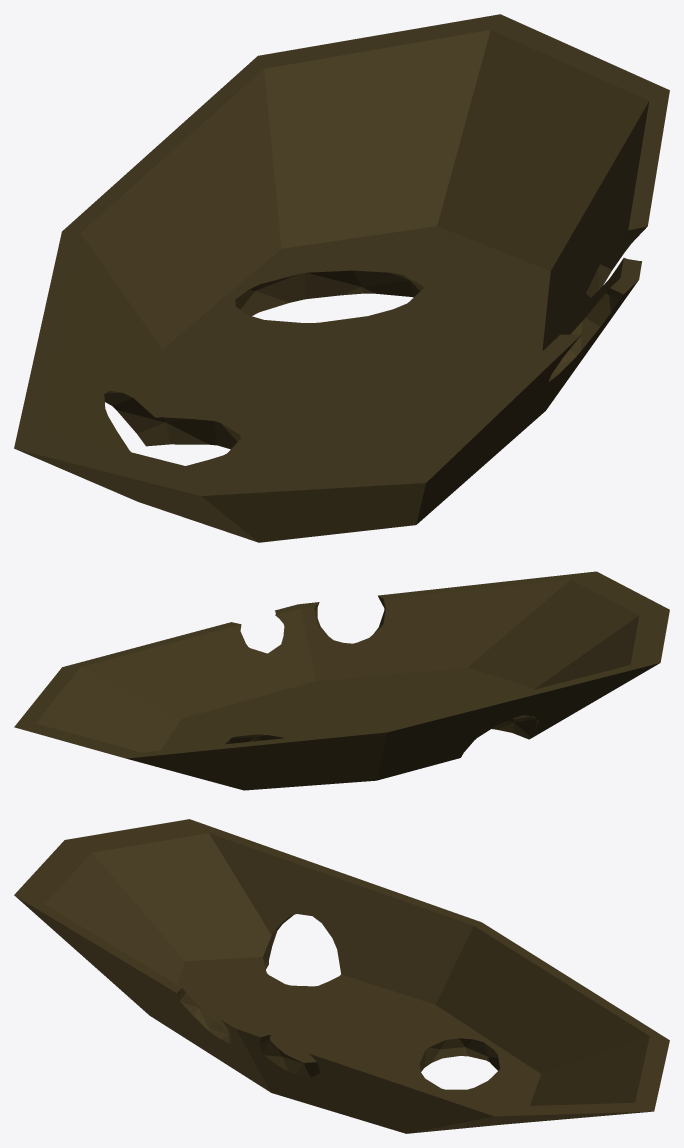
Rendered from BOAT.fbx.
3 views of the same model, one above another, from view 1: azimuth 30°, elevation 25°; view 2: azimuth 150°, elevation 25°; view 3: azimuth 270°, elevation 25° (orthographic). The views are drawn at different scales.
Visible parts, largest first — view 1: RIKBOUT; view 2: RIKBOUT; view 3: RIKBOUT.
Boxes of the visible parts, x1,y1,x2,y2 form: RIKBOUT: [14, 14, 669, 542]; RIKBOUT: [14, 571, 669, 790]; RIKBOUT: [14, 819, 669, 1133].
Size of the model in its own units: 427 by 82.55 by 440.
